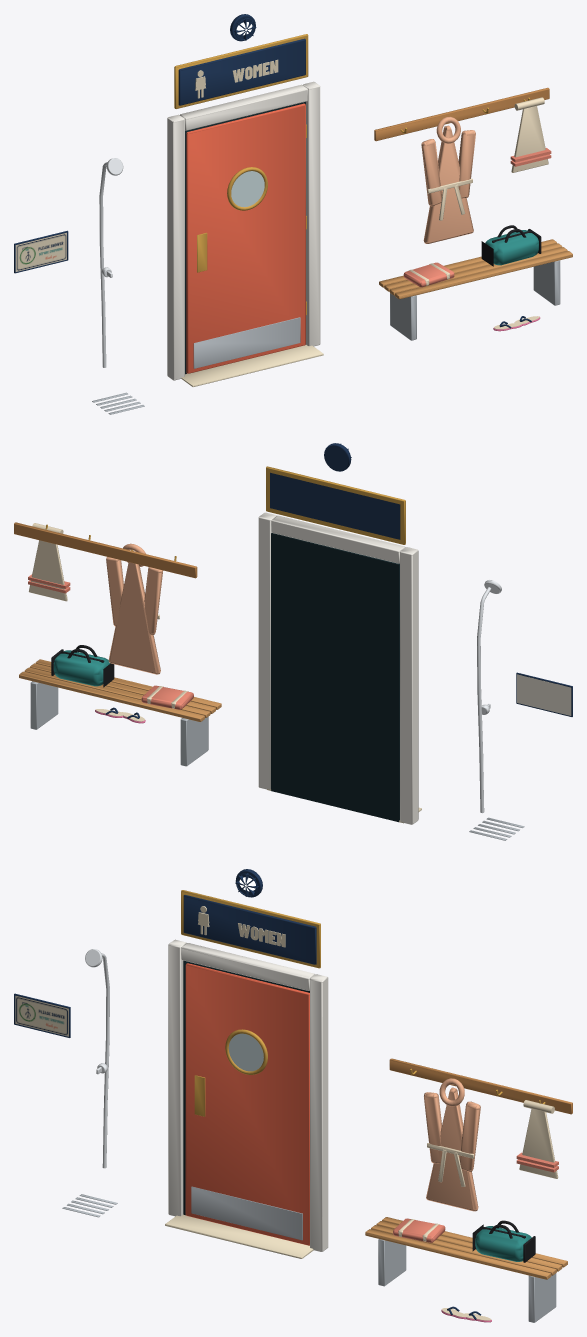
File: changing_door_women.glb
3 views of the same model, one above another, from view 1: azimuth 30°, elevation 25°; view 2: azimuth 150°, elevation 25°; view 3: azimuth 330°, elevation 25° (orthographic). The views are drawn at different scales.
Visible parts, largest first — view 1: ChangingDoorWomenBody, Door; view 2: ChangingDoorWomenBody; view 3: ChangingDoorWomenBody, Door.
Part boxes in pixels (bbox=[...]): ChangingDoorWomenBody: bbox=[14, 14, 572, 414]; Door: bbox=[186, 103, 306, 373]; ChangingDoorWomenBody: bbox=[14, 443, 572, 840]; ChangingDoorWomenBody: bbox=[14, 869, 572, 1322]; Door: bbox=[185, 963, 309, 1245].
Bounding box in the file's own units: 5.21 × 3.22 × 0.705.
Materials: 23 (1 with a texture image).
